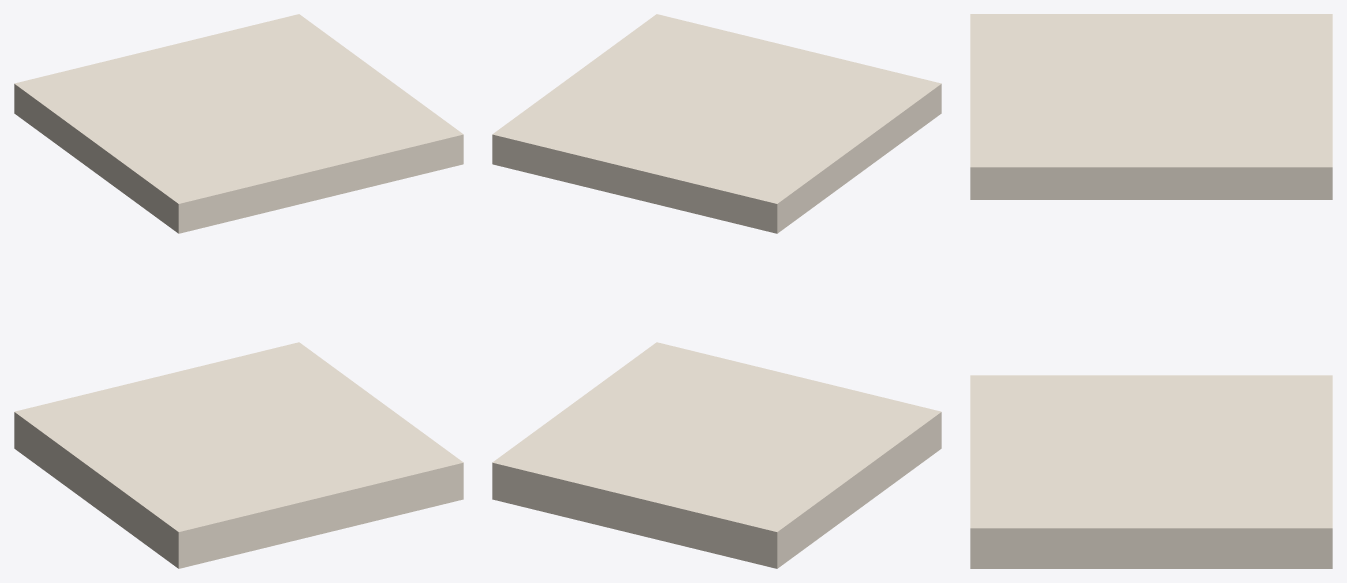
Rendered from Cosas2.fbx.
3 views of the same model, side by side, from view 1: azimuth 30°, elevation 25°; view 2: azimuth 150°, elevation 25°; view 3: azimuth 270°, elevation 25° (orthographic). The views are drawn at different scales.
Parts seen in each view (by area): view 1: PisoB, TechoB; view 2: PisoB, TechoB; view 3: PisoB, TechoB.
Part boxes in pixels (box(x1,y1,x2,y2)): PisoB: box(14, 342, 463, 568); TechoB: box(14, 14, 463, 233); PisoB: box(492, 342, 941, 568); TechoB: box(492, 14, 941, 233); PisoB: box(970, 375, 1332, 568); TechoB: box(970, 14, 1332, 199).
Bounding box in the file's own units: 300 × 367 × 300.
Materials: 1 (1 with a texture image).
